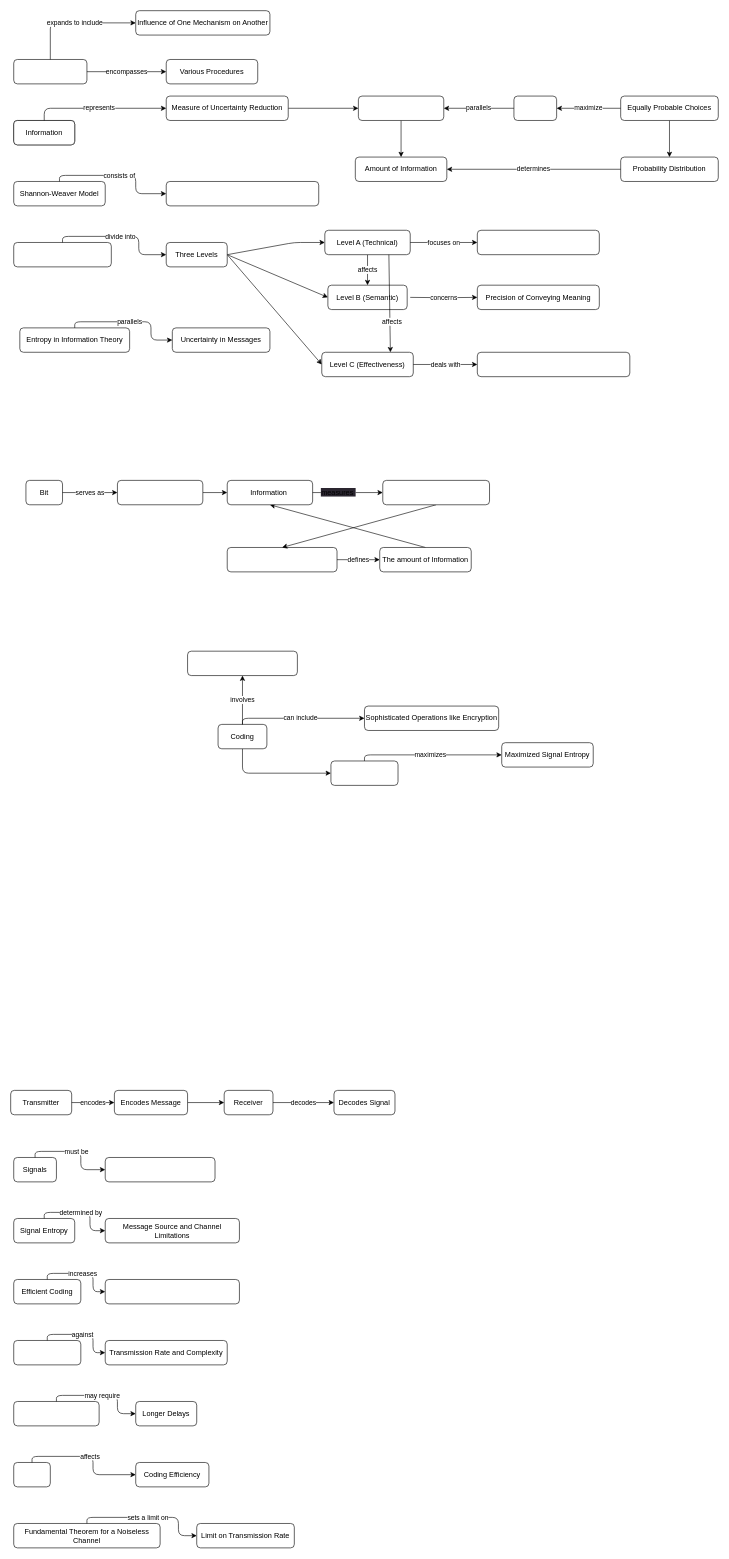
Some shapes in this 729 by 1559 pixel diagram are drawn without their labels. The shapes that lost their labels are listed below. From the top down, each one's box as (x1, y1, x2, y2) in pixels, then its label:
(13, 59, 87, 84): Communication
(358, 95, 444, 120): Level of Uncertainty
(513, 95, 557, 120): Entropy
(166, 181, 319, 206): Sender, Encoder, Channel, Decoder, Receiver
(13, 242, 111, 267): Communication Problems
(477, 230, 599, 255): Accuracy of Symbol Transmission
(477, 352, 630, 377): Impact of Received Meaning on Behavior
(117, 480, 203, 505): Unit of Information
(382, 480, 490, 505): Freedom of Choice in selecting
(227, 547, 337, 572): Number of Available Choices
(187, 651, 297, 676): Transformation of Messages
(330, 760, 398, 785): Optimal Coding
(105, 1157, 215, 1182): Compatibility with Channel
(105, 1279, 239, 1304): Increased Rate of Information Transmission
(13, 1340, 81, 1365): Coding Balance
(13, 1401, 99, 1426): High-Efficiency Coding
(13, 1462, 50, 1487): Noise
